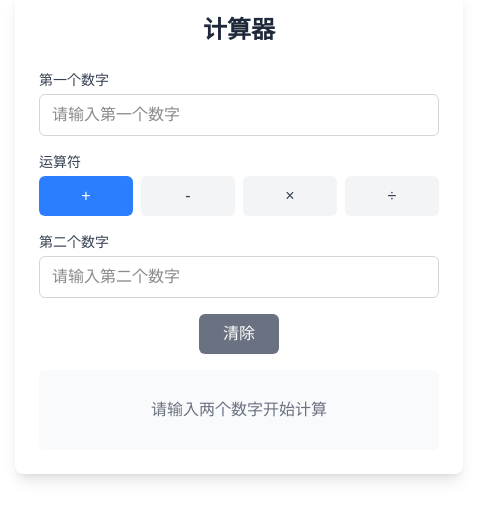
Test: Calculator Component › 应该实时处理除零错误
The width and height of the screenshot is (479, 512).
Type "5" into the number field with placeholder "请输入第一个数字". click: [239, 115]
box: [39,94,439,136]
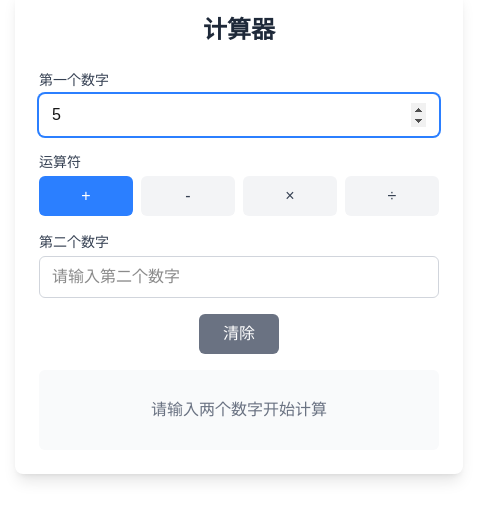
Click the button "÷". click: [392, 196]
box: [345,176,439,216]
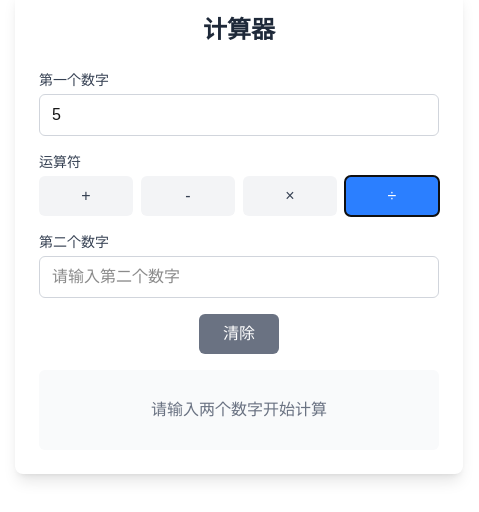
Type "0" into the number field with placeholder "请输入第二个数字". click: [239, 277]
box: [39,256,439,298]
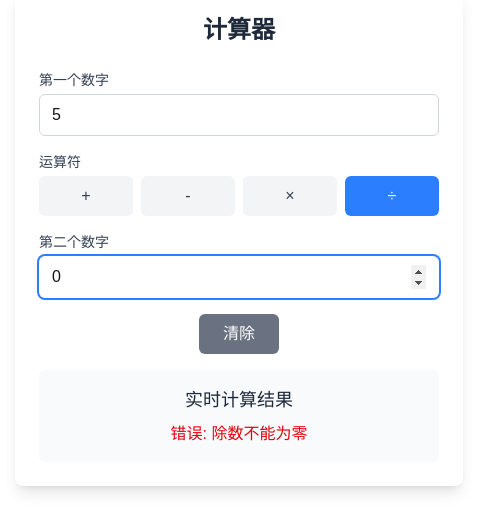
Result: the text "错误: 除数不能为零" is shown at [170,422,307,446]
